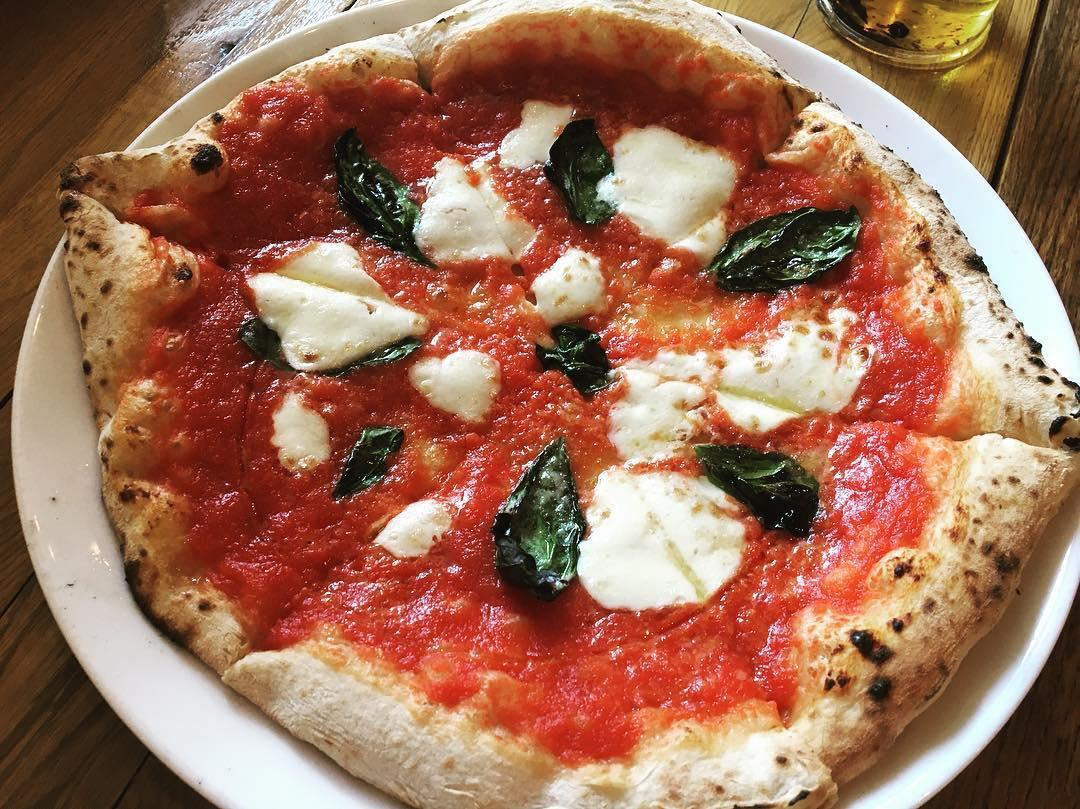Arugula: (486, 435, 588, 616), (332, 122, 436, 261), (692, 438, 821, 539), (710, 202, 861, 287), (239, 318, 423, 370), (545, 115, 619, 233), (535, 320, 616, 393), (325, 423, 407, 494)
Cheese: (580, 466, 749, 611), (236, 235, 416, 369), (710, 303, 863, 432), (606, 125, 739, 260), (405, 153, 536, 270), (598, 345, 722, 451), (400, 346, 509, 421), (520, 252, 607, 316), (375, 498, 458, 563), (270, 386, 325, 470), (499, 106, 575, 163)
Pizza: (55, 0, 1080, 809)
